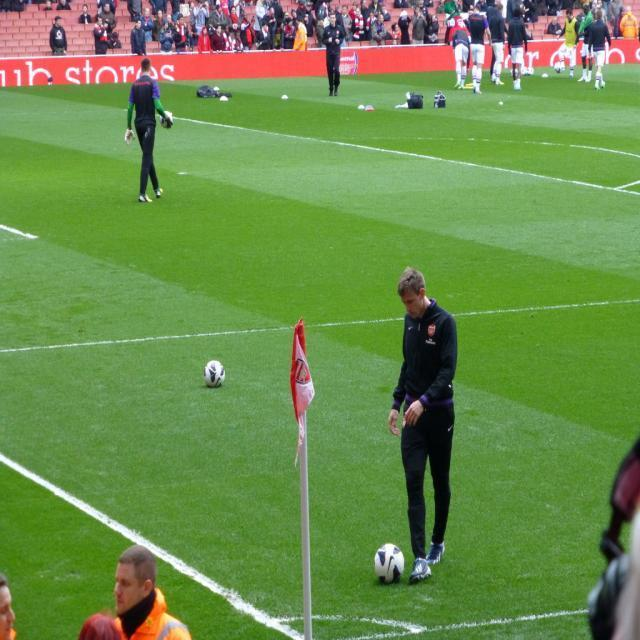football: (362, 543, 423, 586), (194, 360, 241, 398)
